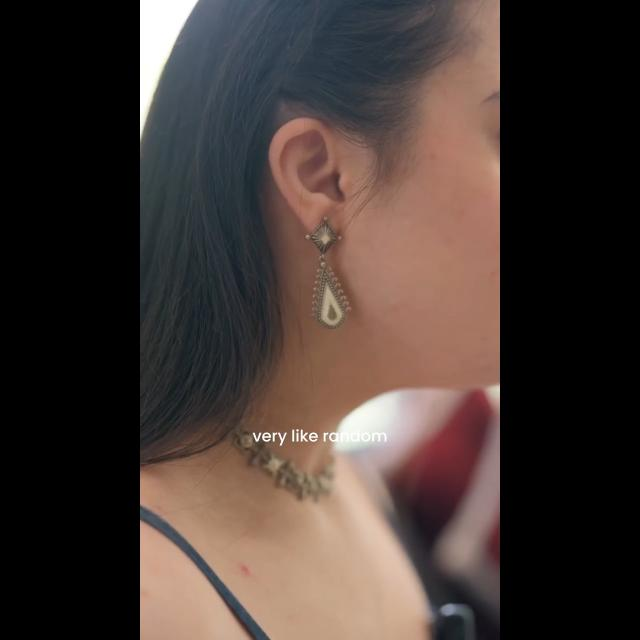ear ring: (298, 215, 364, 338)
